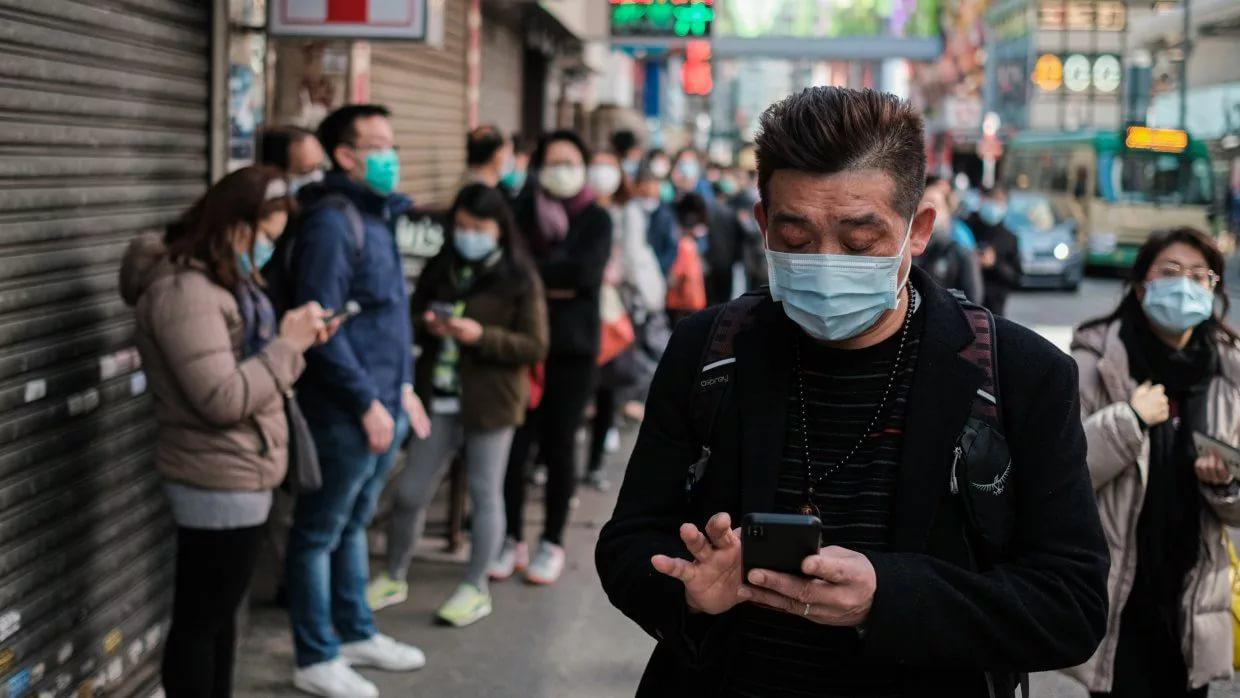mask: (765, 173, 907, 339), (1145, 243, 1215, 330), (341, 111, 398, 193), (230, 192, 287, 274), (453, 206, 499, 261)
